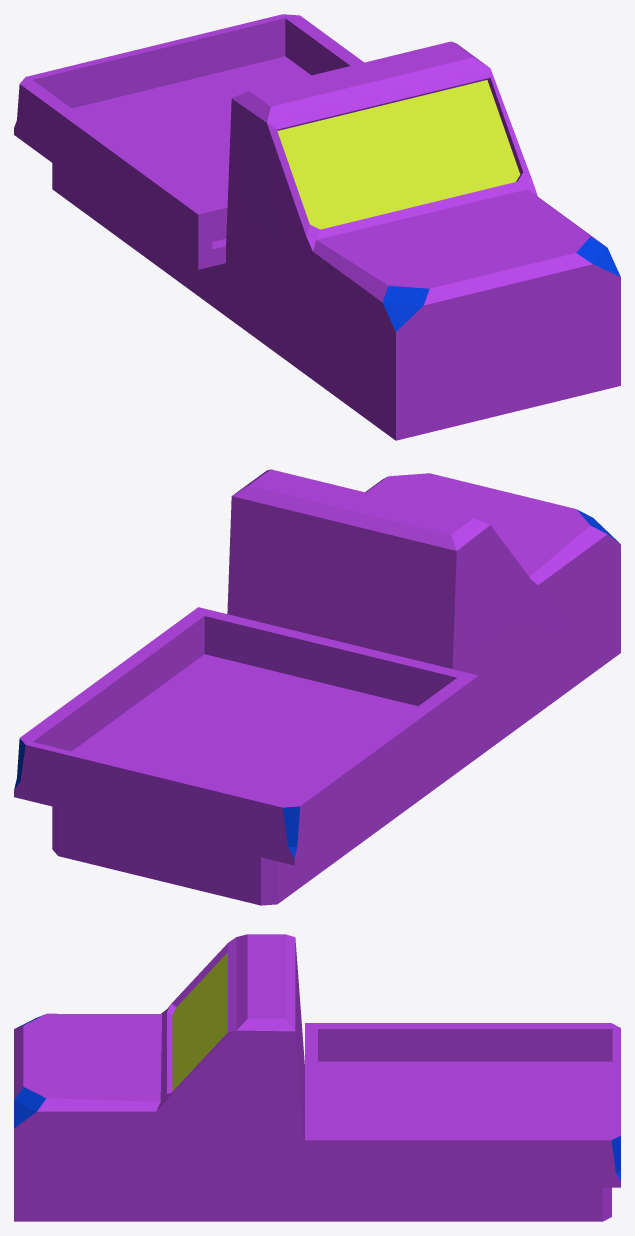
File: FlatbedTruck.fbx
3 views of the same model, one above another, from view 1: azimuth 30°, elevation 25°; view 2: azimuth 150°, elevation 25°; view 3: azimuth 270°, elevation 25° (orthographic). The views are drawn at different scales.
Parts seen in each view (by area): view 1: FlatbedTruck; view 2: FlatbedTruck; view 3: FlatbedTruck.
Part boxes in pixels (box(x1,y1,x2,y2)): FlatbedTruck: box(14, 14, 620, 440); FlatbedTruck: box(14, 469, 620, 905); FlatbedTruck: box(14, 934, 620, 1221).
Bounding box in the file's own units: 329 × 259 × 719.
